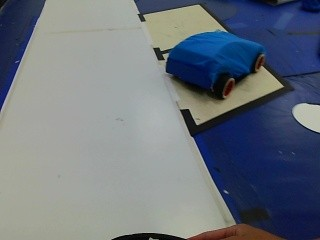car: (160, 30, 274, 108)
